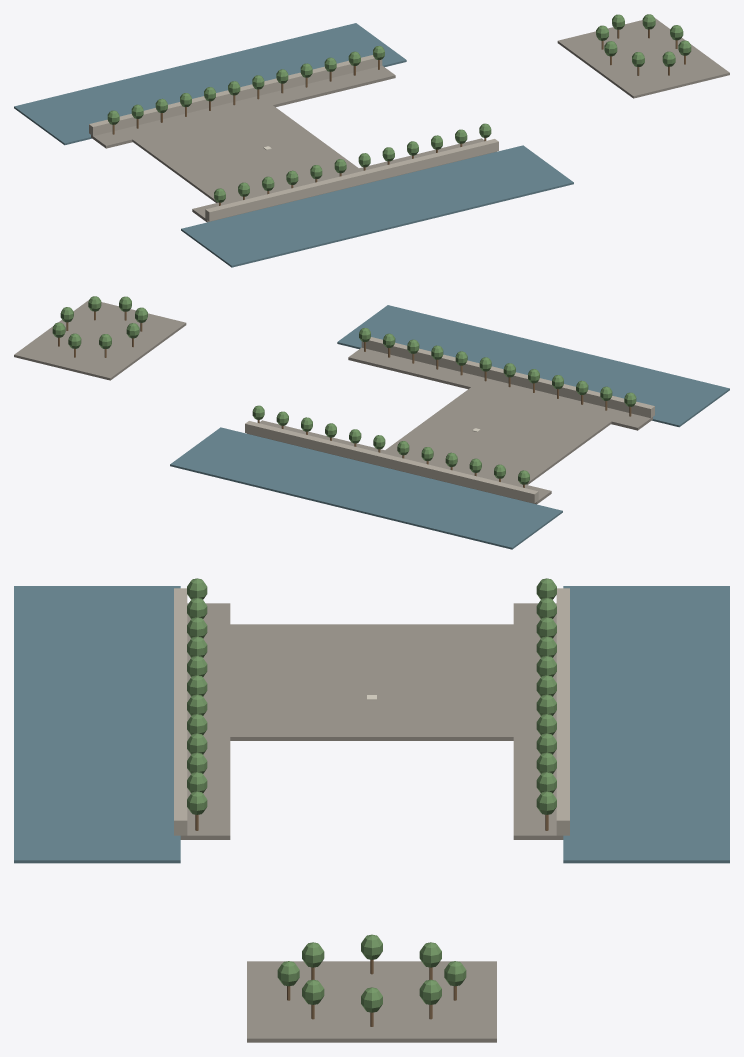
Rendered from 07_parvis_island.glb.
3 views of the same model, one above another, from view 1: azimuth 30°, elevation 25°; view 2: azimuth 150°, elevation 25°; view 3: azimuth 270°, elevation 25° (orthographic). The views are drawn at different scales.
Visible parts, largest first — view 1: parvis_island_water_nocol, parvis_island_stonedark, parvis_island_stoneshaded, parvis_island_foliage_nocol, parvis_island_oak_nocol; view 2: parvis_island_water_nocol, parvis_island_stonedark, parvis_island_stoneshaded, parvis_island_foliage_nocol, parvis_island_oak_nocol; view 3: parvis_island_water_nocol, parvis_island_stonedark, parvis_island_foliage_nocol, parvis_island_stoneshaded.
Part boxes in pixels (x1,y1,x2,y2): parvis_island_water_nocol: (14,23,573,267); parvis_island_stonedark: (91,18,729,222); parvis_island_stoneshaded: (89,55,498,221); parvis_island_foliage_nocol: (107,14,691,202); parvis_island_oak_nocol: (112,29,685,205); parvis_island_water_nocol: (170,305,729,549); parvis_island_stonedark: (14,300,652,504); parvis_island_stoneshaded: (245,337,654,503); parvis_island_foliage_nocol: (52,296,636,484); parvis_island_oak_nocol: (58,311,631,487); parvis_island_water_nocol: (14,586,729,863); parvis_island_stonedark: (180,603,563,1042); parvis_island_foliage_nocol: (187,578,556,1012); parvis_island_stoneshaded: (174,588,569,835).
Bounding box in the file's own units: 260 × 12 × 172.
